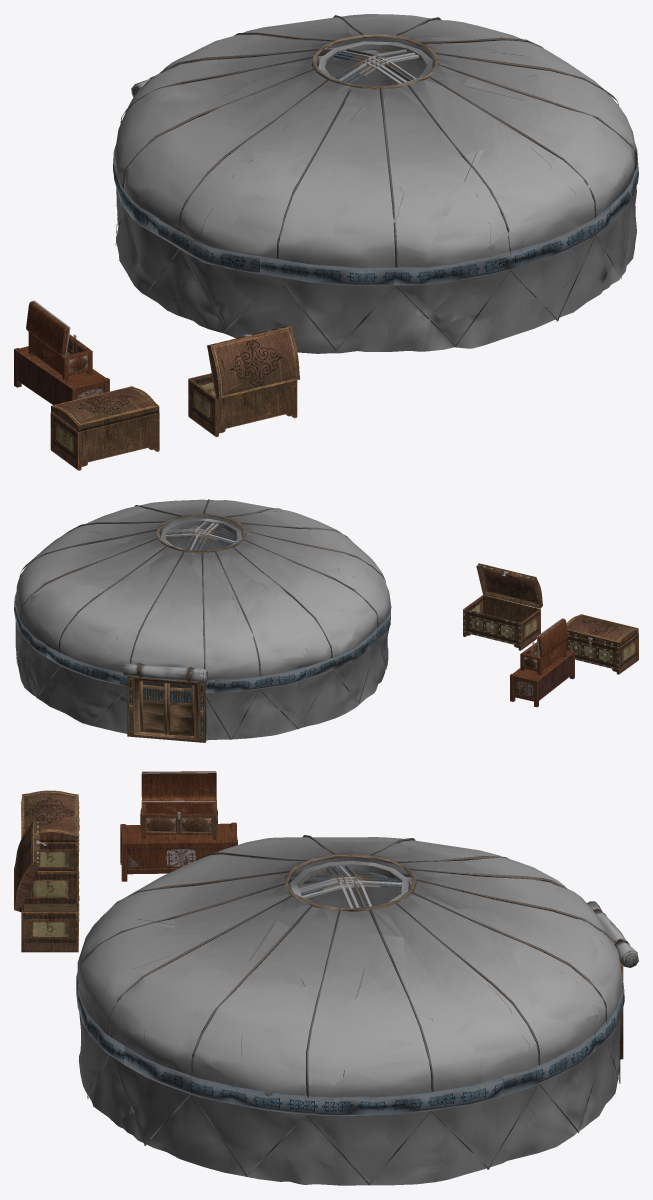
File: YURT_ANDOTHER.fbx
3 views of the same model, one above another, from view 1: azimuth 30°, elevation 25°; view 2: azimuth 150°, elevation 25°; view 3: azimuth 270°, elevation 25° (orthographic). The views are drawn at different scales.
Visible parts, largest first — view 1: YurtaExterior_LOW, Yurtainterior.001, Yurtainterior.004, Yurtainterior.003, Yurtainterior.002; view 2: YurtaExterior_LOW, Yurtainterior.001, Yurtainterior.004, Yurtainterior.002, Yurtainterior.003; view 3: YurtaExterior_LOW, Yurtainterior.001, Yurtainterior.003, Yurtainterior.002, Yurtainterior.004.
Boxes of the visible parts, x1,y1,x2,y2 form: YurtaExterior_LOW: [113, 14, 638, 353]; Yurtainterior.001: [188, 326, 300, 437]; Yurtainterior.004: [50, 386, 159, 470]; Yurtainterior.003: [26, 300, 92, 380]; Yurtainterior.002: [14, 346, 109, 404]; YurtaExterior_LOW: [14, 499, 391, 742]; Yurtainterior.001: [463, 563, 542, 650]; Yurtainterior.004: [566, 614, 638, 674]; Yurtainterior.002: [510, 650, 574, 707]; Yurtainterior.003: [520, 618, 567, 674]; YurtaExterior_LOW: [76, 835, 638, 1185]; Yurtainterior.001: [14, 820, 79, 952]; Yurtainterior.003: [140, 771, 217, 839]; Yurtainterior.002: [120, 822, 237, 881]; Yurtainterior.004: [21, 790, 79, 871].
Size of what is drawn, in the model's own units: 1058 by 277 by 804.
